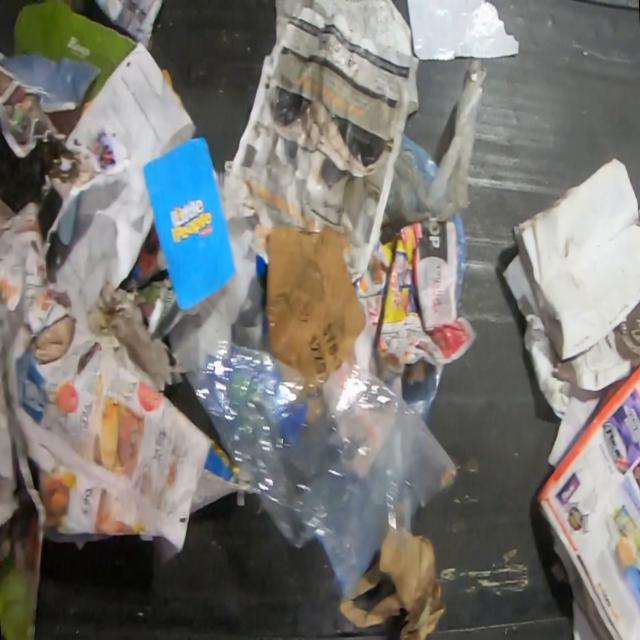cardboard: (502, 156, 639, 359), (266, 222, 366, 376), (11, 0, 139, 104), (0, 384, 46, 639)
soft_plastic: (185, 334, 459, 602), (380, 59, 489, 227), (405, 0, 520, 61), (402, 358, 447, 420), (400, 135, 440, 183), (452, 210, 468, 307)
